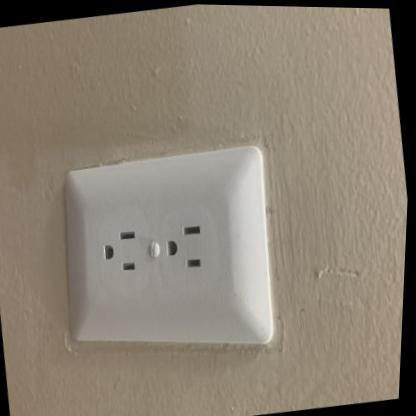OUTLET: (43, 137, 288, 371)
